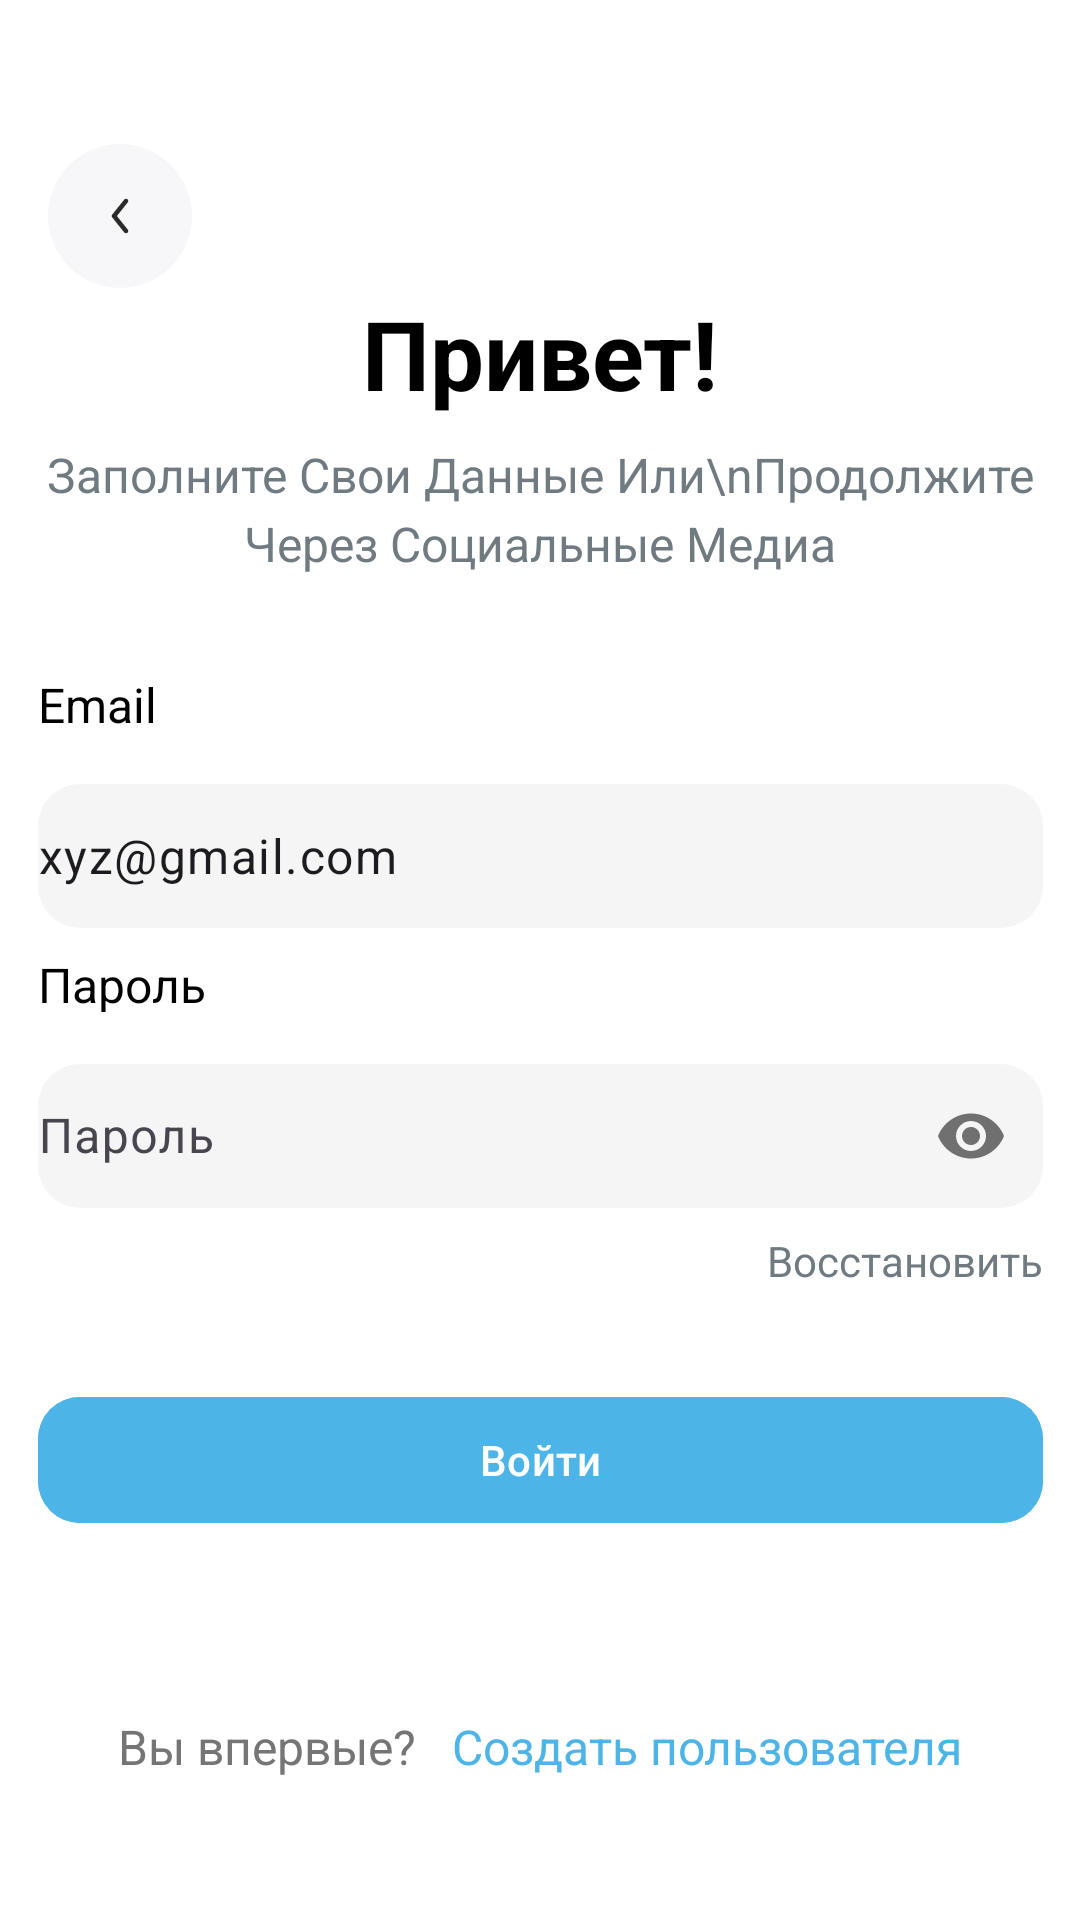

Icons on this 1080px×1920px Android screen, each with the point to tap as [x,y]:
back: [120,216]
